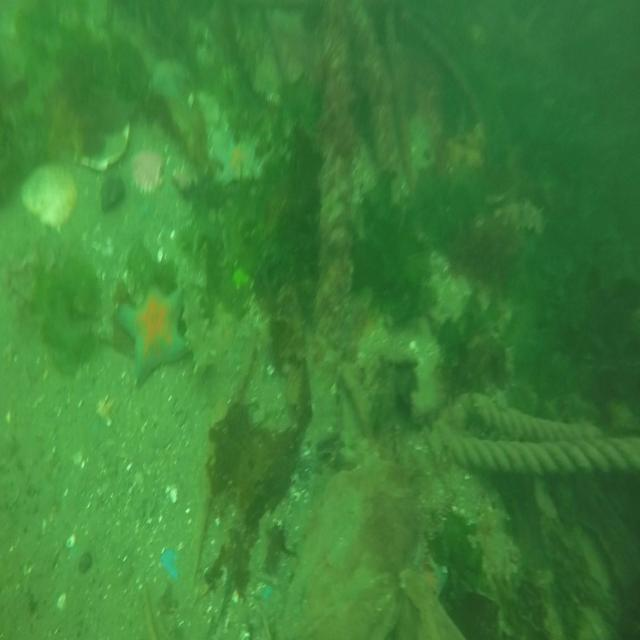holothurian: (502, 193, 550, 237)
scallop: (19, 167, 78, 234), (130, 150, 166, 198)
starfish: (114, 280, 194, 386), (400, 531, 450, 625), (217, 129, 264, 186), (146, 54, 192, 98)
